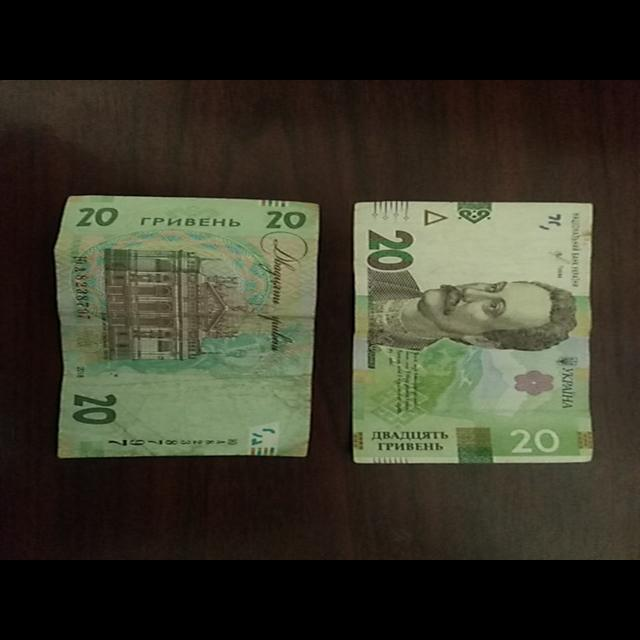20uah: (54, 196, 317, 459), (352, 203, 594, 463)
